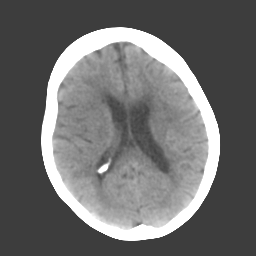ischemic: (59, 96, 103, 145)
